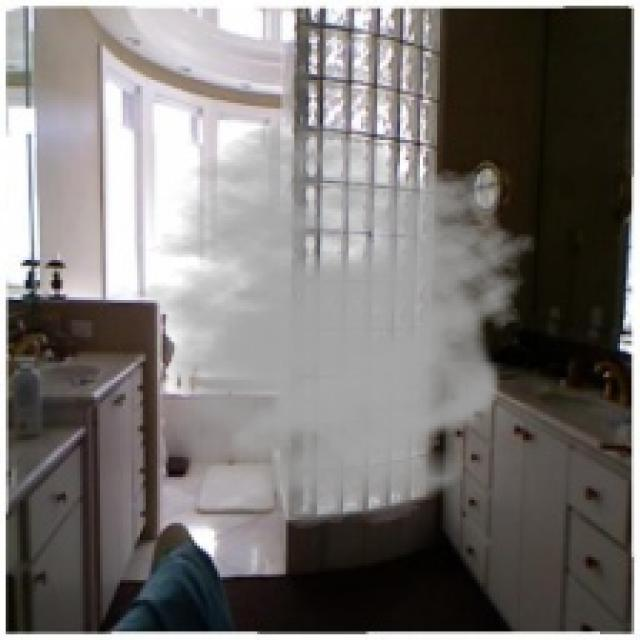Smoke: (112, 120, 537, 529)
